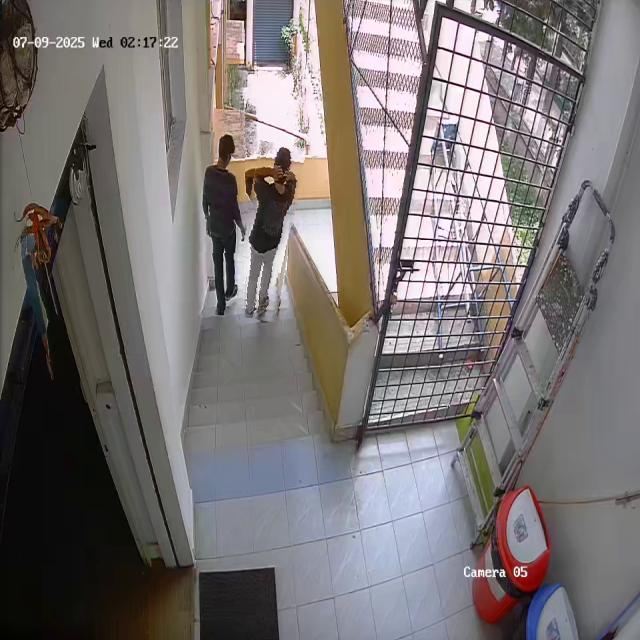person: (237, 142, 298, 321), (198, 132, 245, 315)
